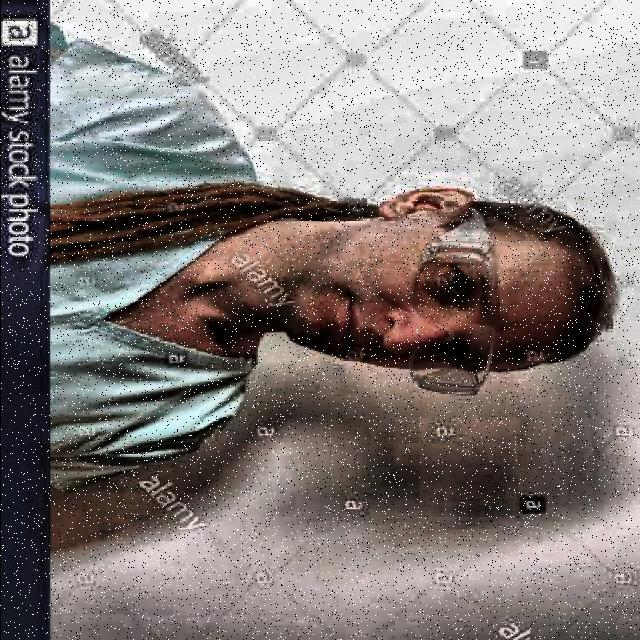Goggles: (395, 199, 503, 430)
